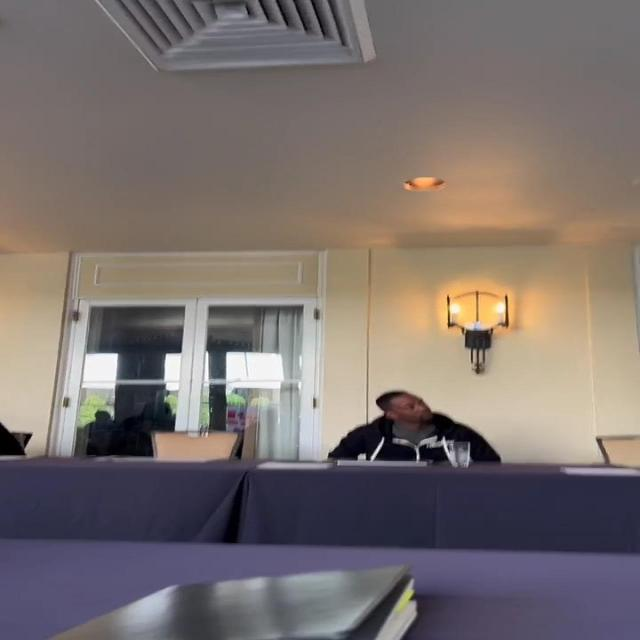NO-Mask: (388, 391, 432, 420)
